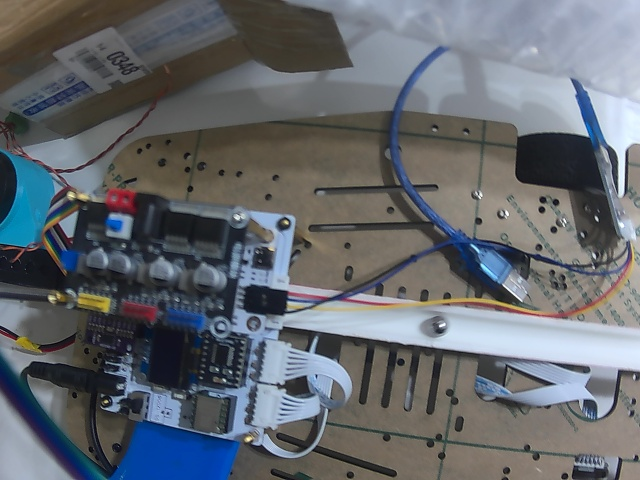steelball: (428, 315, 447, 338)
